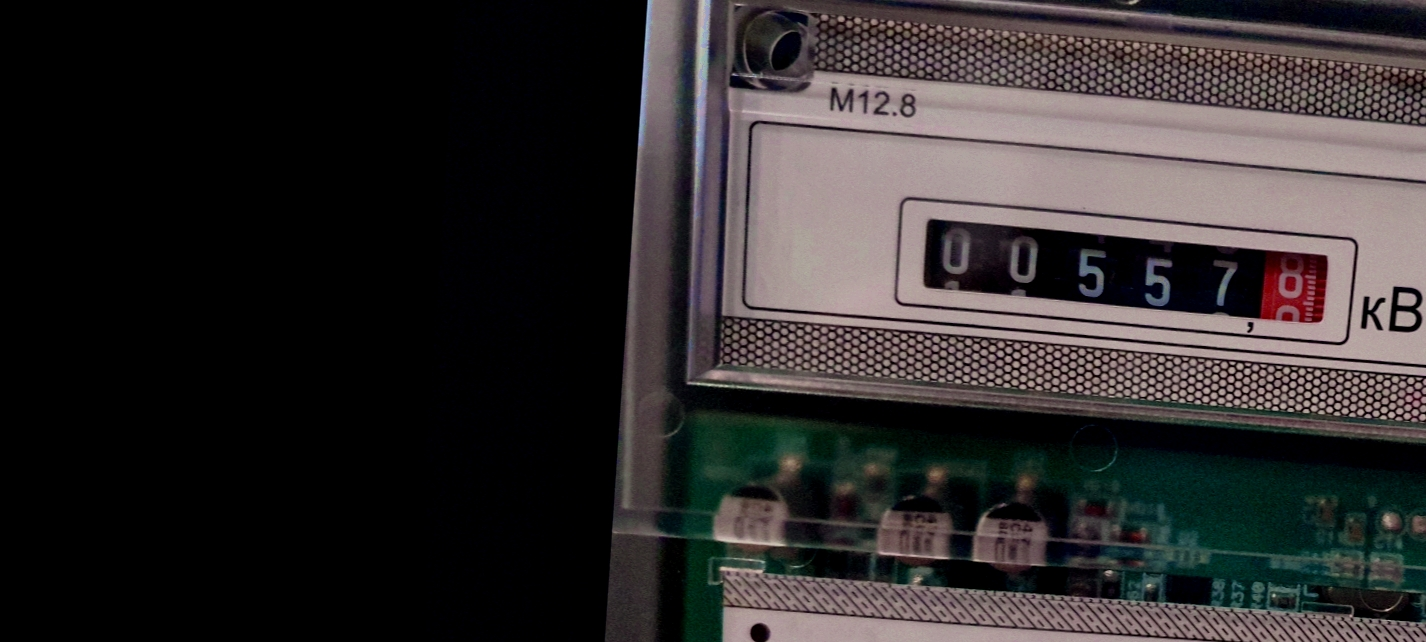0: (939, 222, 977, 280), (1006, 232, 1044, 286)
5: (1140, 250, 1181, 311), (1074, 243, 1112, 302)
7: (1206, 254, 1242, 311)
8: (1277, 252, 1309, 303)
screen: (890, 189, 1366, 352)
